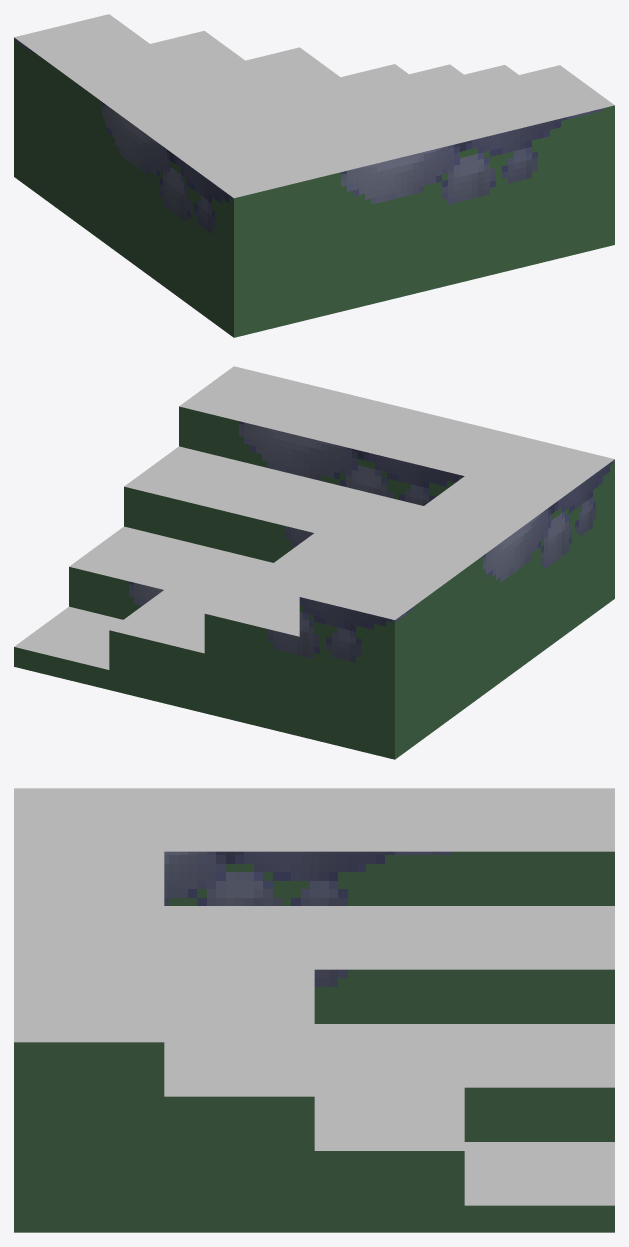
Rendered from floor_stairsCornerInner.dae.
3 renders of one model, top to bottom at view 1: azimuth 30°, elevation 25°; view 2: azimuth 150°, elevation 25°; view 3: azimuth 270°, elevation 25°, orthographic. The views are drawn at different scales.
Visible parts, largest first — view 1: floor_stairsCornerInner; view 2: floor_stairsCornerInner; view 3: floor_stairsCornerInner.
Boxes of the visible parts, left/top/right/bottom form: floor_stairsCornerInner: left=14, top=14, right=614, bottom=337; floor_stairsCornerInner: left=14, top=366, right=614, bottom=759; floor_stairsCornerInner: left=14, top=788, right=614, bottom=1232.
Size of the model in its own units: 1 by 0.35 by 1.
